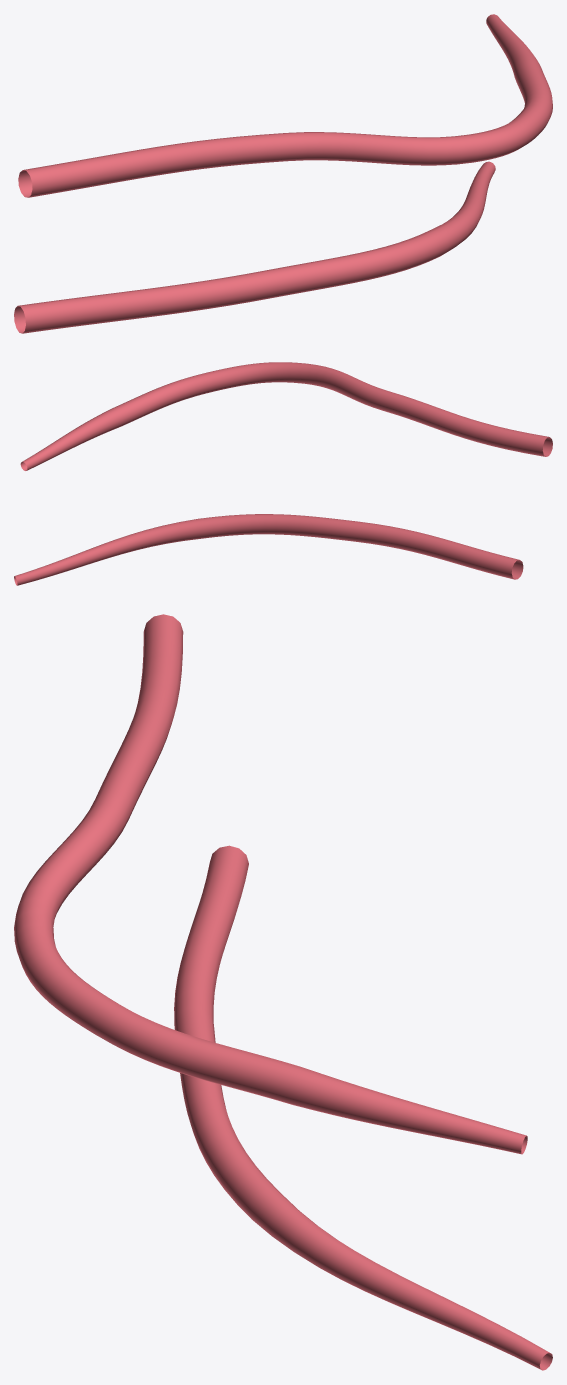
The picture shows the model from 3 angles, top to bottom: view 1: azimuth 30°, elevation 25°; view 2: azimuth 150°, elevation 25°; view 3: azimuth 270°, elevation 25°; orthographic projection. The views are drawn at different scales.
Visible parts, largest first — view 1: ZA_b45362e5c185c20f; view 2: ZA_b45362e5c185c20f; view 3: ZA_b45362e5c185c20f.
Boxes of the visible parts, bbox=[...] form: ZA_b45362e5c185c20f: bbox=[14, 14, 552, 333]; ZA_b45362e5c185c20f: bbox=[14, 362, 552, 585]; ZA_b45362e5c185c20f: bbox=[14, 614, 552, 1370].
Bounding box in the file's own units: 0.00986 × 0.0039 × 0.00546.
